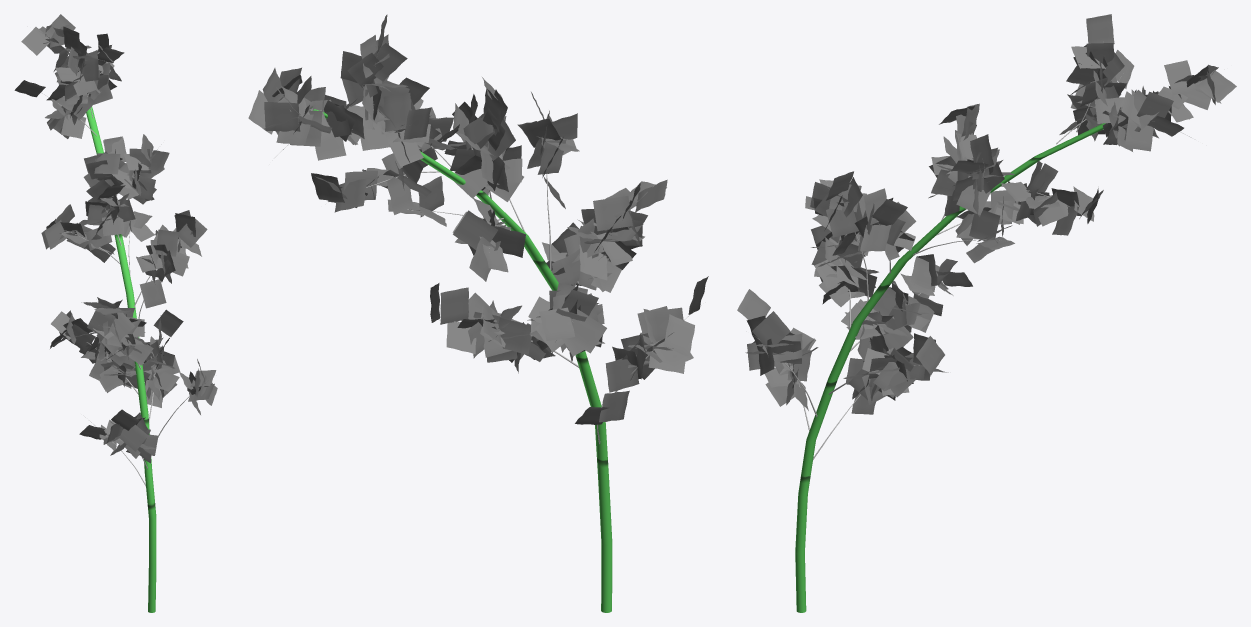
3 renders of one model, left to right at view 1: azimuth 30°, elevation 25°; view 2: azimuth 150°, elevation 25°; view 3: azimuth 270°, elevation 25°, orthographic. The views are drawn at different scales.
Visible parts, largest first — view 1: tyFlow_node_140; view 2: tyFlow_node_140; view 3: tyFlow_node_140.
Boxes of the visible parts, x1,y1,x2,y2 form: tyFlow_node_140: [14, 14, 217, 612]; tyFlow_node_140: [248, 14, 708, 612]; tyFlow_node_140: [737, 14, 1236, 612].
Size of the model in its own units: 46.1 by 135 by 98.86.
